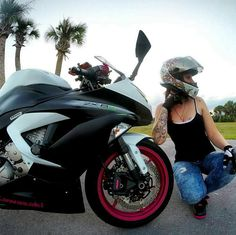helmet: (158, 54, 206, 98)
